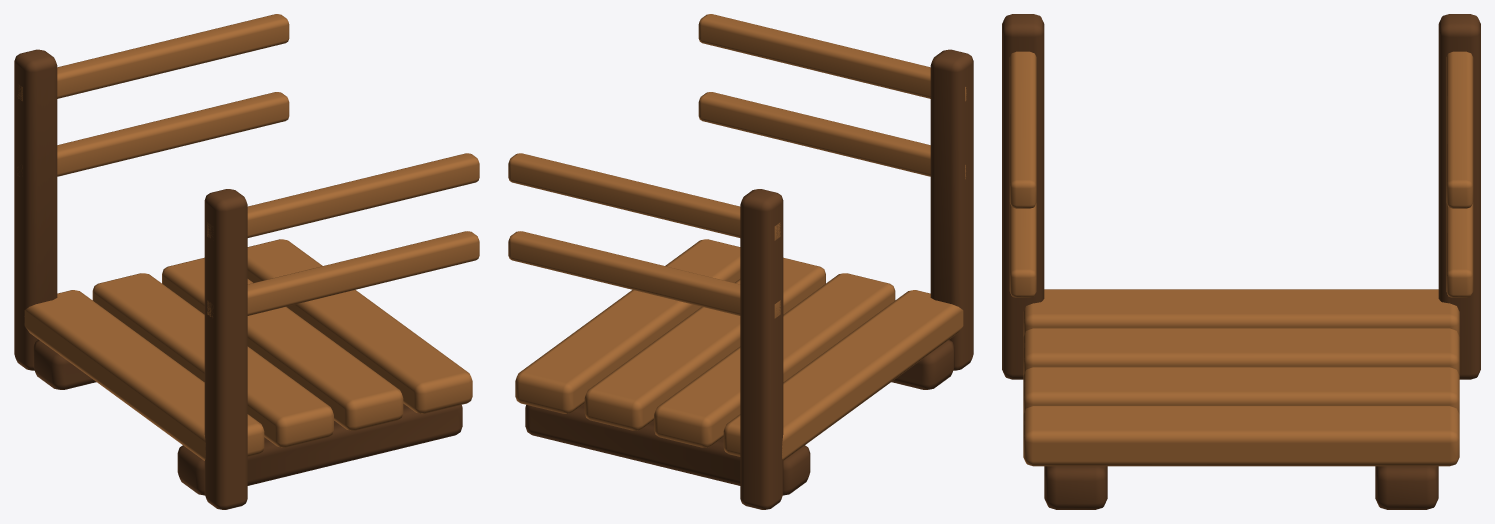
File: Buildings__bridge.glb
3 renders of one model, left to right at view 1: azimuth 30°, elevation 25°; view 2: azimuth 150°, elevation 25°; view 3: azimuth 270°, elevation 25°, orthographic. The views are drawn at different scales.
Visible parts, largest first — view 1: bridge_mesh; view 2: bridge_mesh; view 3: bridge_mesh.
Boxes of the visible parts, x1,y1,x2,y2 form: bridge_mesh: (14,14,479,509); bridge_mesh: (508,14,973,509); bridge_mesh: (1002,14,1480,509).
Size of the model in its own units: 0.5 by 0.558 by 0.68.
